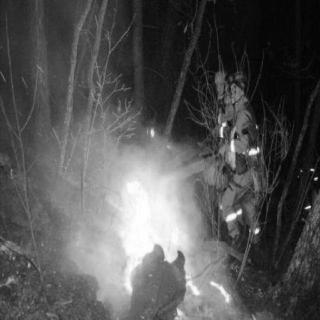Fire: (109, 107, 229, 316)
